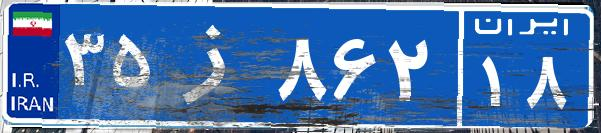1: (475, 38, 525, 113)
2: (385, 28, 445, 110)
3: (57, 26, 110, 107)
5: (110, 28, 158, 105)
6: (330, 28, 385, 110)
8: (273, 28, 330, 110), (525, 38, 570, 115)
ز: (158, 15, 273, 115)
